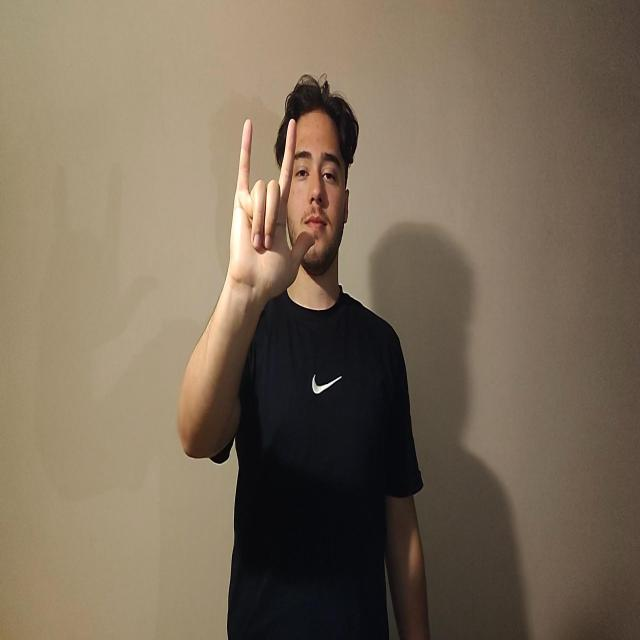iloveyou: (228, 116, 315, 305)
